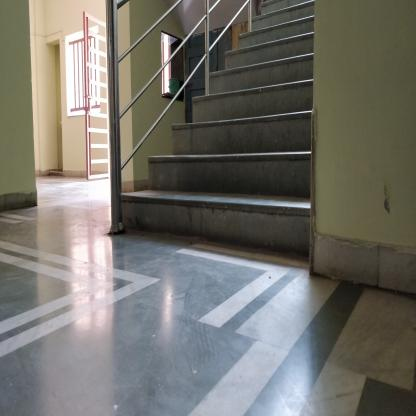stairs: (229, 44, 311, 267)
